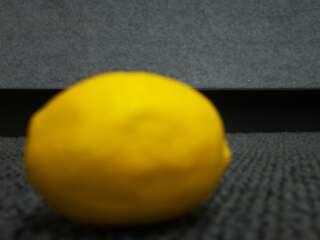lemon: (25, 71, 230, 226)
